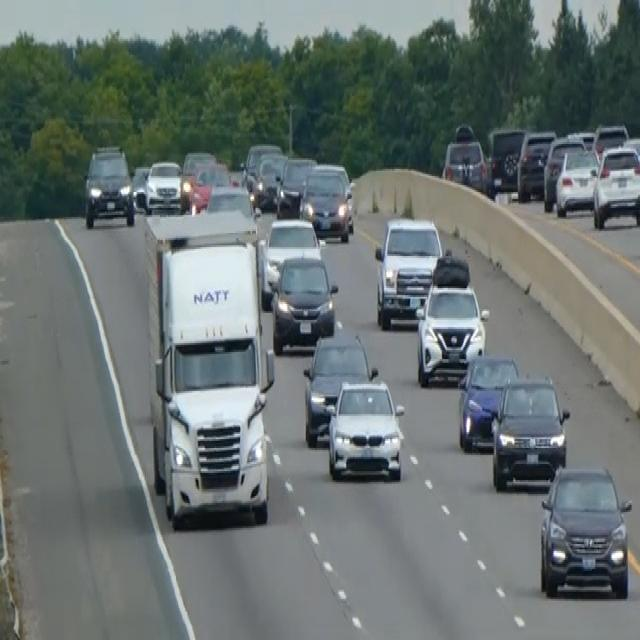car: (538, 462, 632, 599), (490, 372, 570, 491), (302, 326, 377, 446), (326, 375, 405, 482), (373, 213, 442, 329), (415, 279, 488, 384), (270, 249, 338, 354), (457, 350, 519, 452), (261, 215, 321, 301), (83, 142, 135, 228), (299, 162, 352, 242), (592, 142, 639, 228), (542, 132, 586, 210), (554, 146, 599, 217), (516, 128, 555, 201), (487, 124, 526, 196), (275, 153, 316, 217), (442, 137, 487, 192), (179, 148, 216, 208), (144, 156, 182, 214), (189, 158, 231, 210), (251, 151, 287, 210), (241, 140, 281, 188), (205, 181, 254, 219), (591, 121, 629, 162)
lorry: (142, 208, 276, 530)
